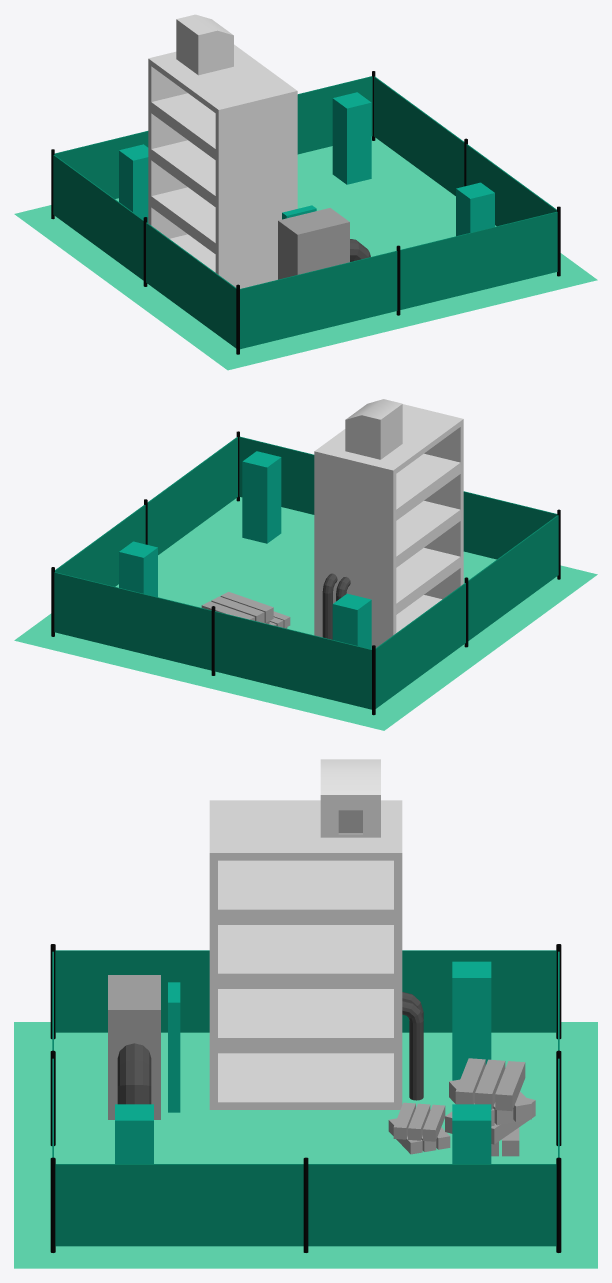
The model's file is 22_green.fbx.
3 renders of one model, top to bottom at view 1: azimuth 30°, elevation 25°; view 2: azimuth 150°, elevation 25°; view 3: azimuth 270°, elevation 25°, orthographic. The views are drawn at different scales.
Parts seen in each view (by area): view 1: pCube229, two_two1, pCube227, pCube228, pCube222, pCube217, pCube225, pCube233, pCube239, pCube226, pCube224, pCube241 (+3 smaller); view 2: pCube229, two_two1, pCube223, pCube224, pCube217, pCube222, pCube226, pCube228, pCube238, pCube225, pCube241, pCube227 (+5 smaller); view 3: two_two1, pCube229, pCube225, pCube226, pCube222, pCube217, pCube233, pCube241, pCube240, pCube239, pCube238, pCylinder44 (+5 smaller).
Part boxes in pixels (x1,y1,x2,y2): pCube229: (148, 44, 297, 288); two_two1: (14, 136, 597, 370); pCube227: (400, 211, 557, 309); pCube228: (240, 250, 397, 349); pCube222: (53, 154, 143, 280); pCube217: (146, 222, 236, 348); pCube225: (374, 76, 464, 195); pCube233: (278, 208, 349, 279); pCube239: (332, 92, 371, 184); pCube226: (466, 144, 556, 226); pCube224: (297, 76, 372, 154); pCube241: (176, 14, 233, 75); pCube229: (314, 404, 463, 648); two_two1: (14, 497, 597, 730); pCube223: (214, 611, 371, 709); pCube224: (54, 572, 211, 670); pCube217: (468, 515, 558, 640); pCube222: (375, 583, 465, 708); pCube226: (147, 437, 237, 554); pCube228: (463, 491, 557, 559); pCube238: (242, 451, 281, 543); pCube225: (55, 505, 145, 586); pCube241: (345, 399, 402, 459); pCube227: (239, 436, 314, 514); two_two1: (14, 1022, 597, 1268); pCube229: (209, 800, 402, 1109); pCube225: (308, 1164, 556, 1246); pCube226: (55, 1164, 303, 1246); pCube222: (402, 950, 556, 1032); pCube217: (55, 950, 209, 1032); pCube233: (108, 975, 160, 1119); pCube241: (320, 759, 380, 837); pCube240: (452, 961, 491, 1080); pCube239: (452, 1104, 491, 1163); pCube238: (115, 1104, 153, 1163); pCylinder44: (117, 1043, 151, 1104).
Bounding box in the file's own units: 2 × 1.2 × 2.
